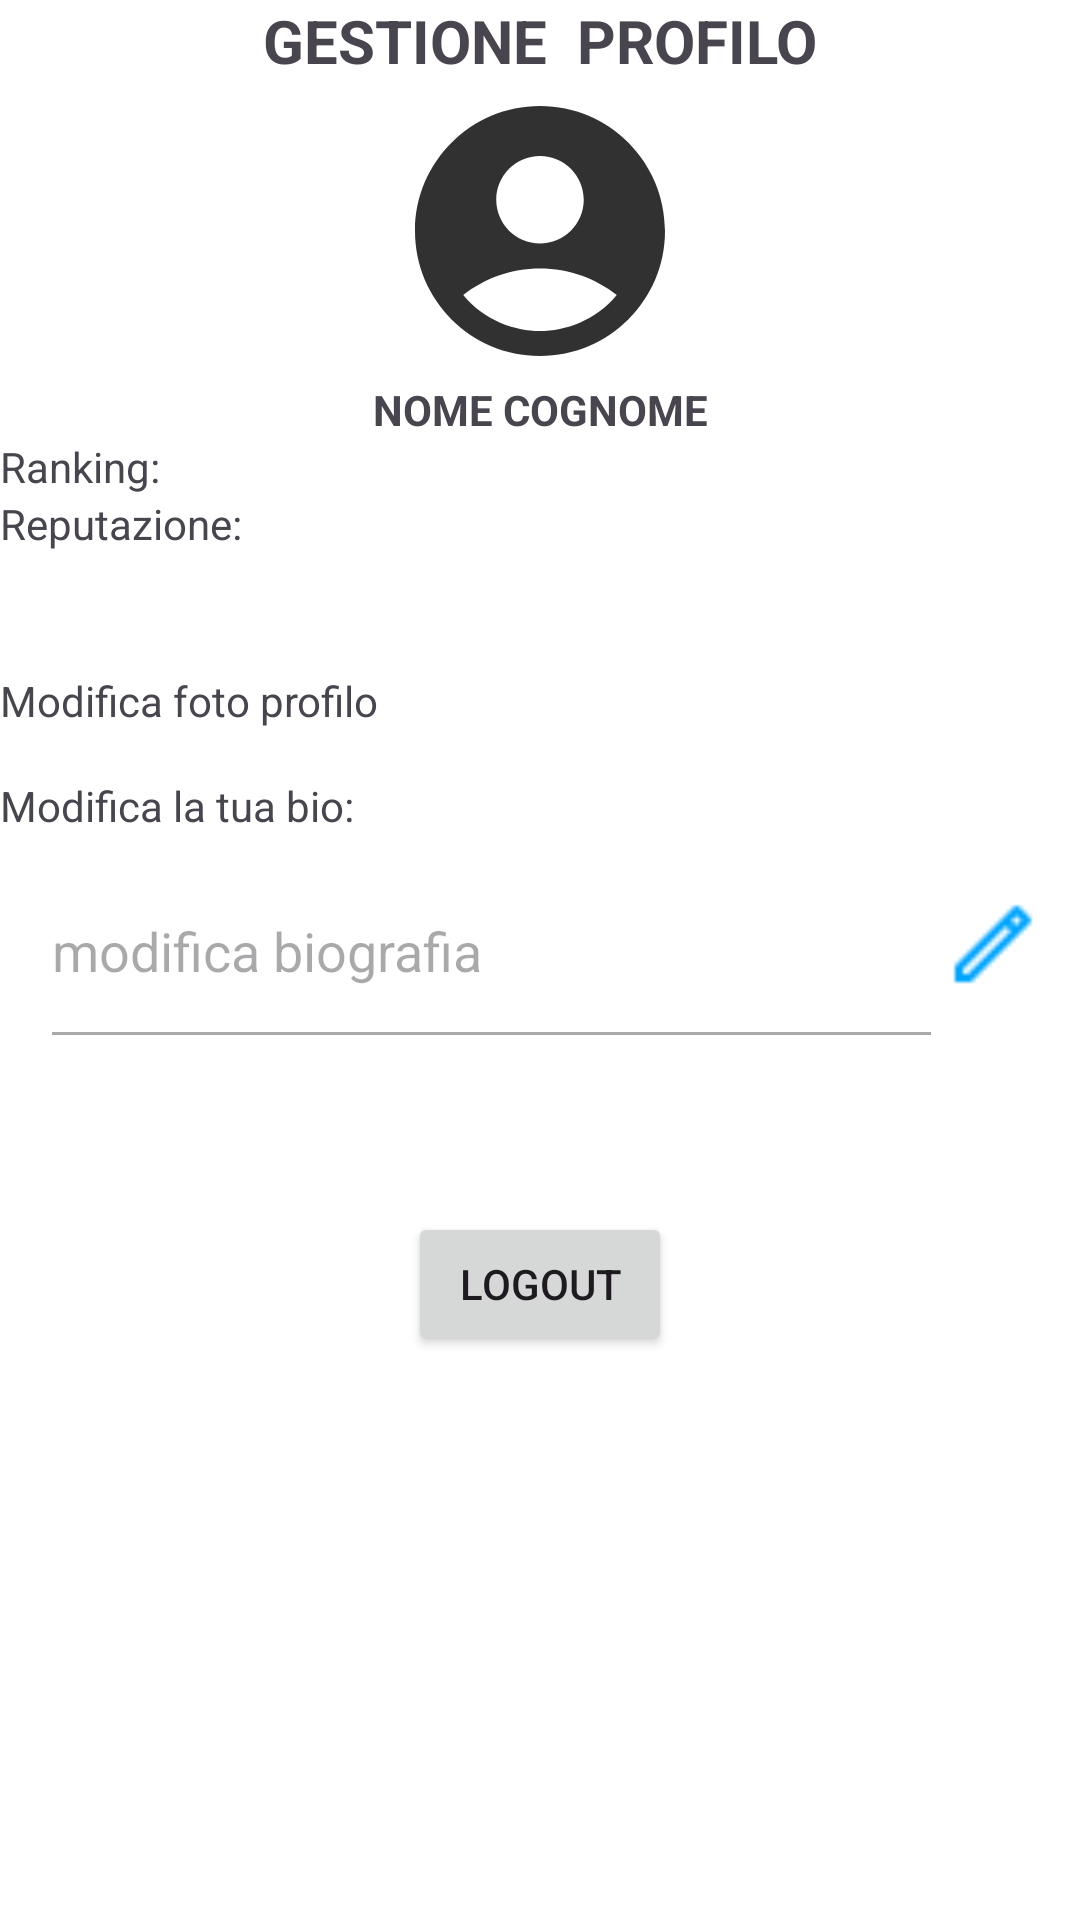

Screen size 1080w x 1920h. Icon name, then its box in pixels as (x1, y1, x2, y2):
account circle: (415, 106, 665, 356)
pencil: (953, 904, 1033, 984)
